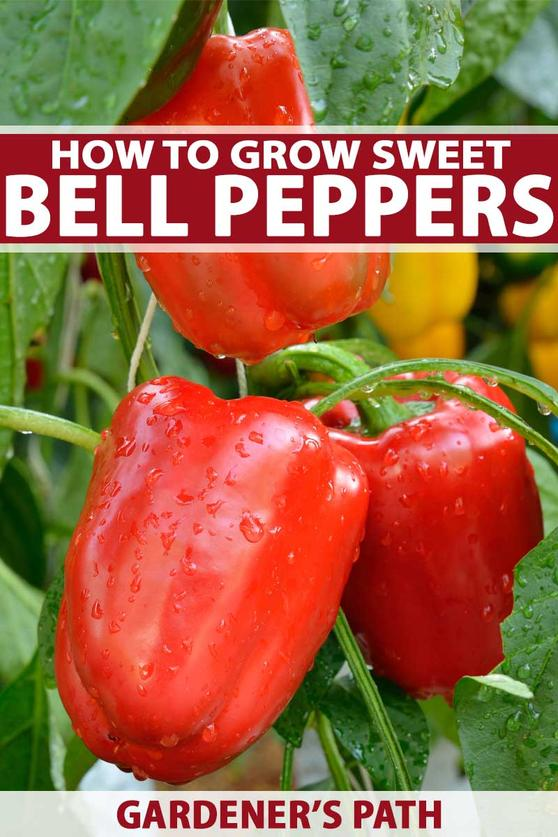pepper: (52, 377, 361, 772), (335, 402, 544, 684)
